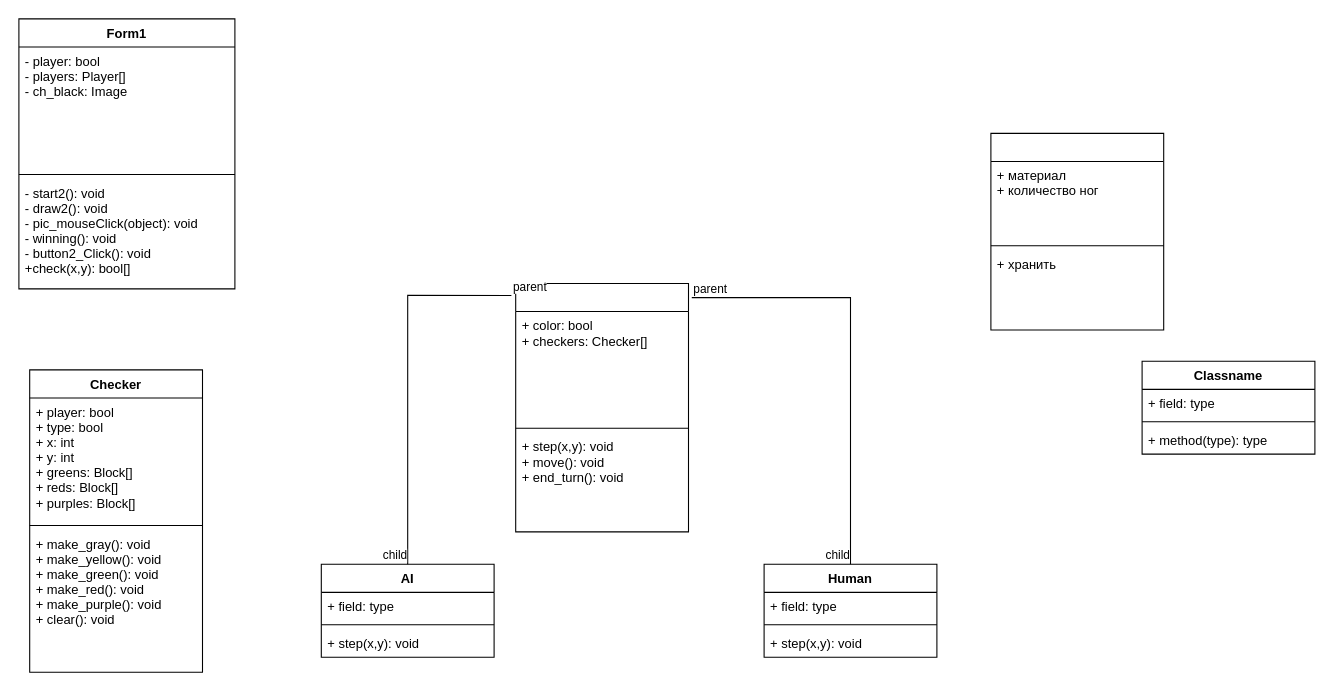
Some shapes in this 1334 by 694 pixel diagram are drawn without their labels. Each missing label, with the box of its shape:
Player: (515, 282, 688, 532)
Стол: (990, 132, 1164, 330)
